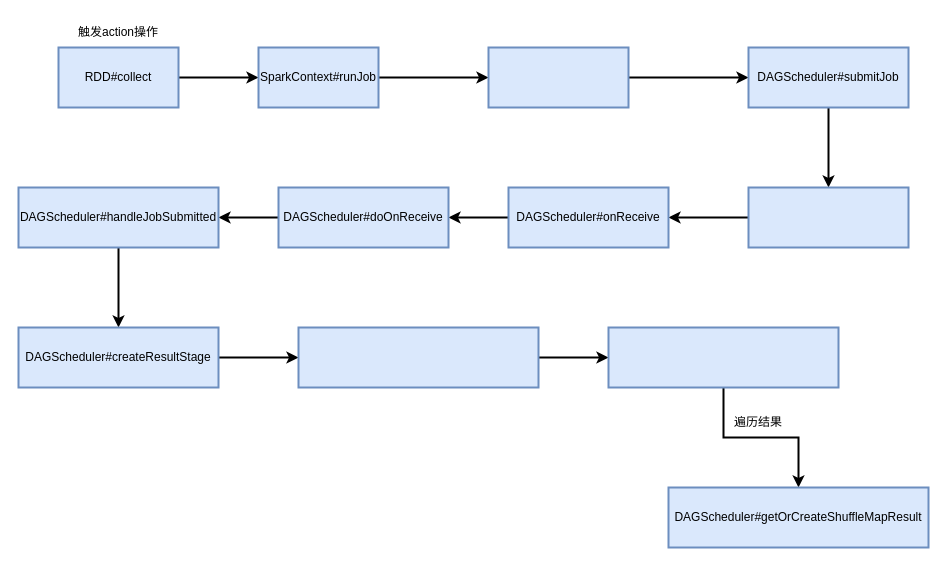
Some shapes in this 946 by 565 pixel diagram are drawn without their labels. Here are the shapes that lost their labels. From the top down, the centre of each, then its label:
(558,77): DAGScheduler#runJob
(828,217): EventLoop#post
(418,357): DAGScheduler#getOrCreateParentStages
(723,357): DAGScheduler#getShuffleDependenices
